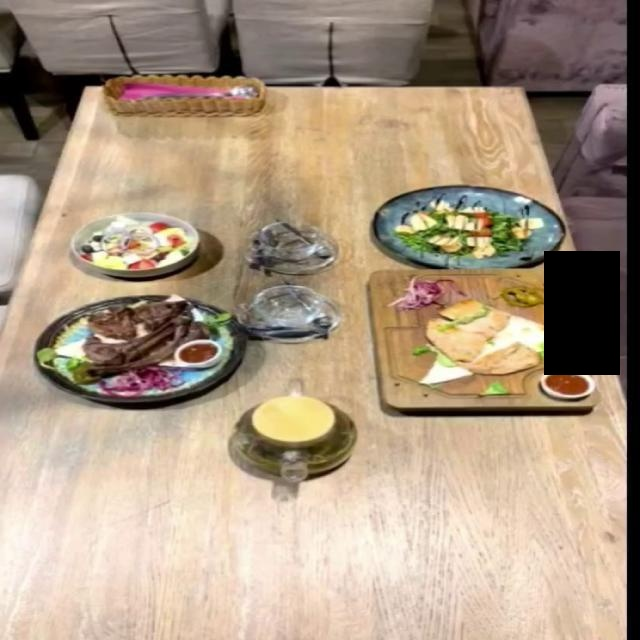meat: (368, 272, 601, 414), (32, 293, 247, 402)
salad: (375, 185, 567, 267), (68, 211, 202, 276)
tea: (228, 395, 357, 480)
